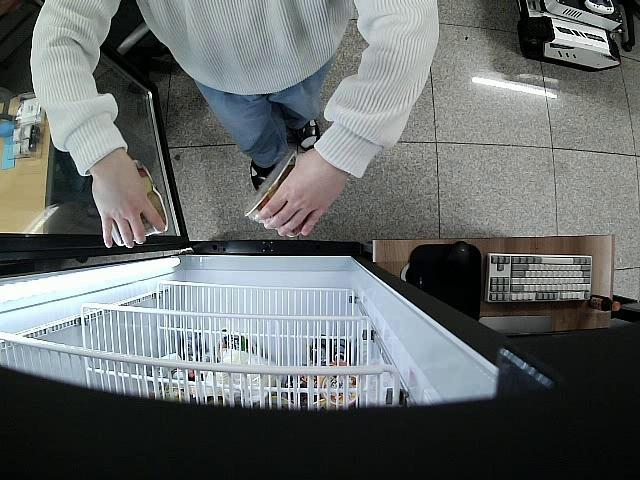03_chapagetti_L: (92, 160, 169, 249), (245, 152, 312, 240)
